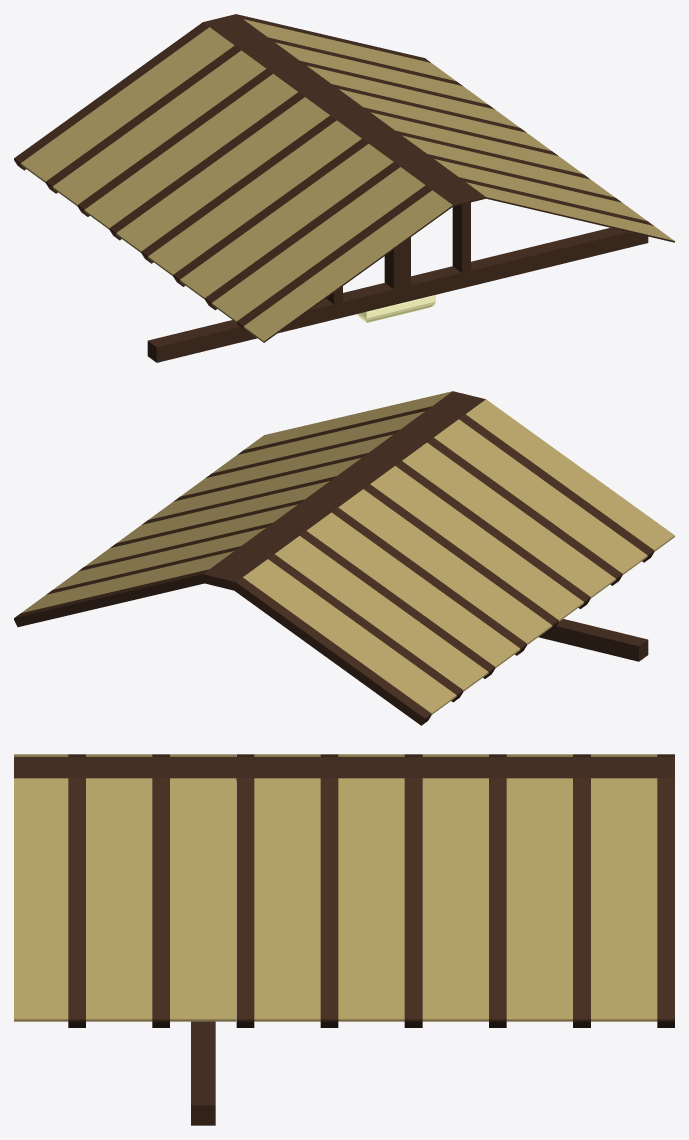
Rendered from set_3_roof.glb.
3 views of the same model, one above another, from view 1: azimuth 30°, elevation 25°; view 2: azimuth 150°, elevation 25°; view 3: azimuth 270°, elevation 25° (orthographic). The views are drawn at different scales.
Visible parts, largest first — view 1: Cube.003; view 2: Cube.003; view 3: Cube.003.
Part boxes in pixels (left/top/right/bottom): Cube.003: left=14, top=14, right=674, bottom=362; Cube.003: left=14, top=391, right=674, bottom=725; Cube.003: left=14, top=754, right=674, bottom=1125.
Bounding box in the file's own units: 6.9 × 2.23 × 6.08.
